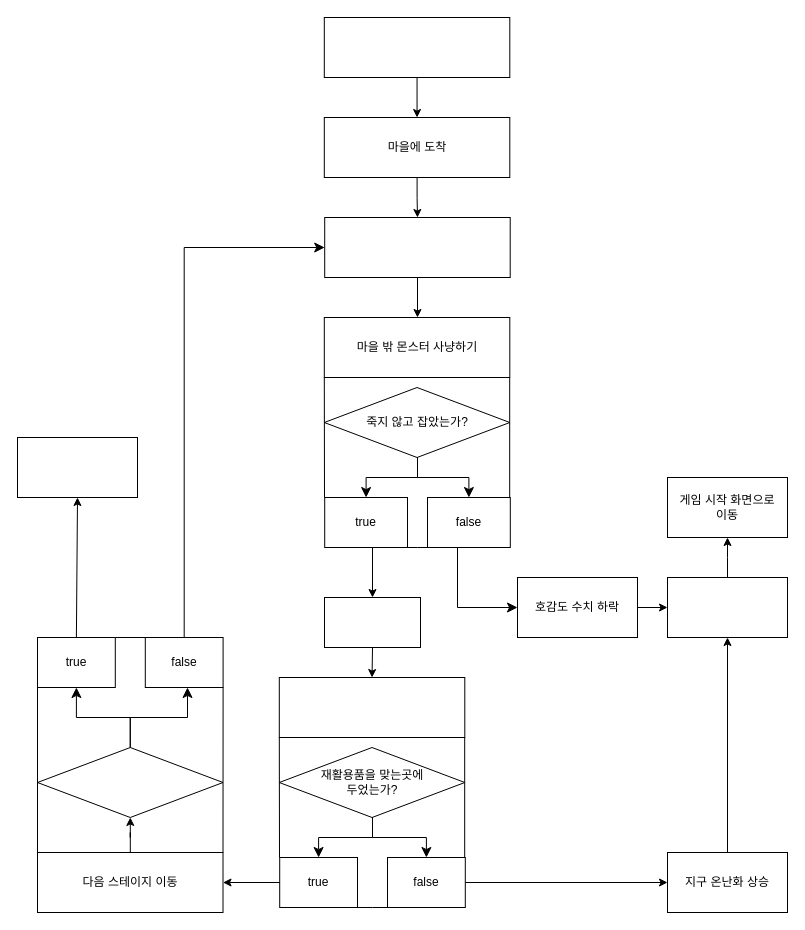
The diagram is 805 pixels wide and 930 high, and some of its shapes have lost their labels. The box of each missing label's shape, as (x1, y1, x2, y2) in pixels:
게임 시작: (323, 16, 510, 78)
게임 오버: (666, 576, 788, 638)
게임 클리어: (16, 436, 138, 498)
괴짜 펭귄에게 퀘스트 받기: (324, 216, 510, 278)
네번째 스테이지인가?: (36, 746, 223, 818)
재활용: (278, 676, 465, 738)
퀘스트 클리어: (324, 596, 420, 648)
